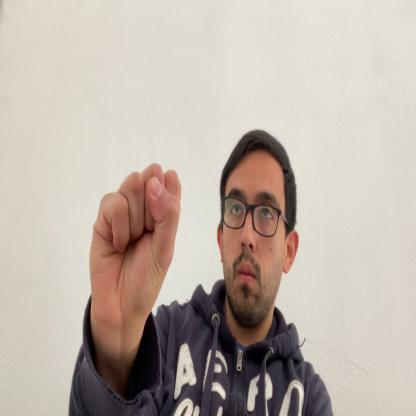S: (90, 165, 182, 322)
